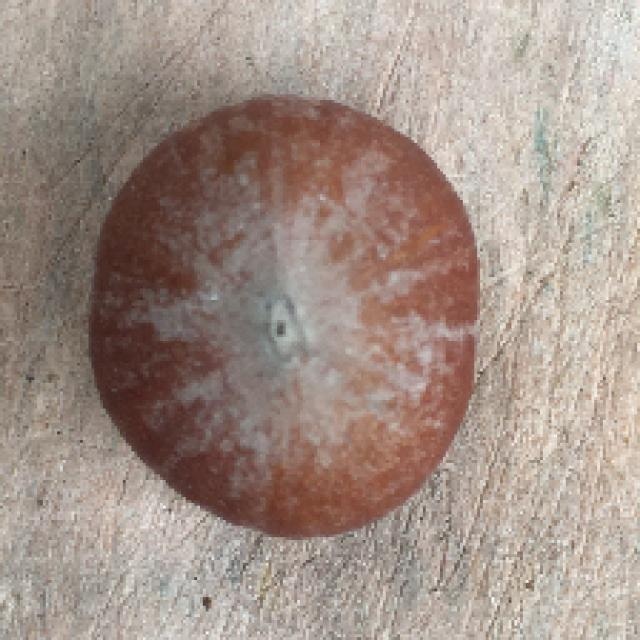qualityHazelnut: (83, 82, 493, 543)
